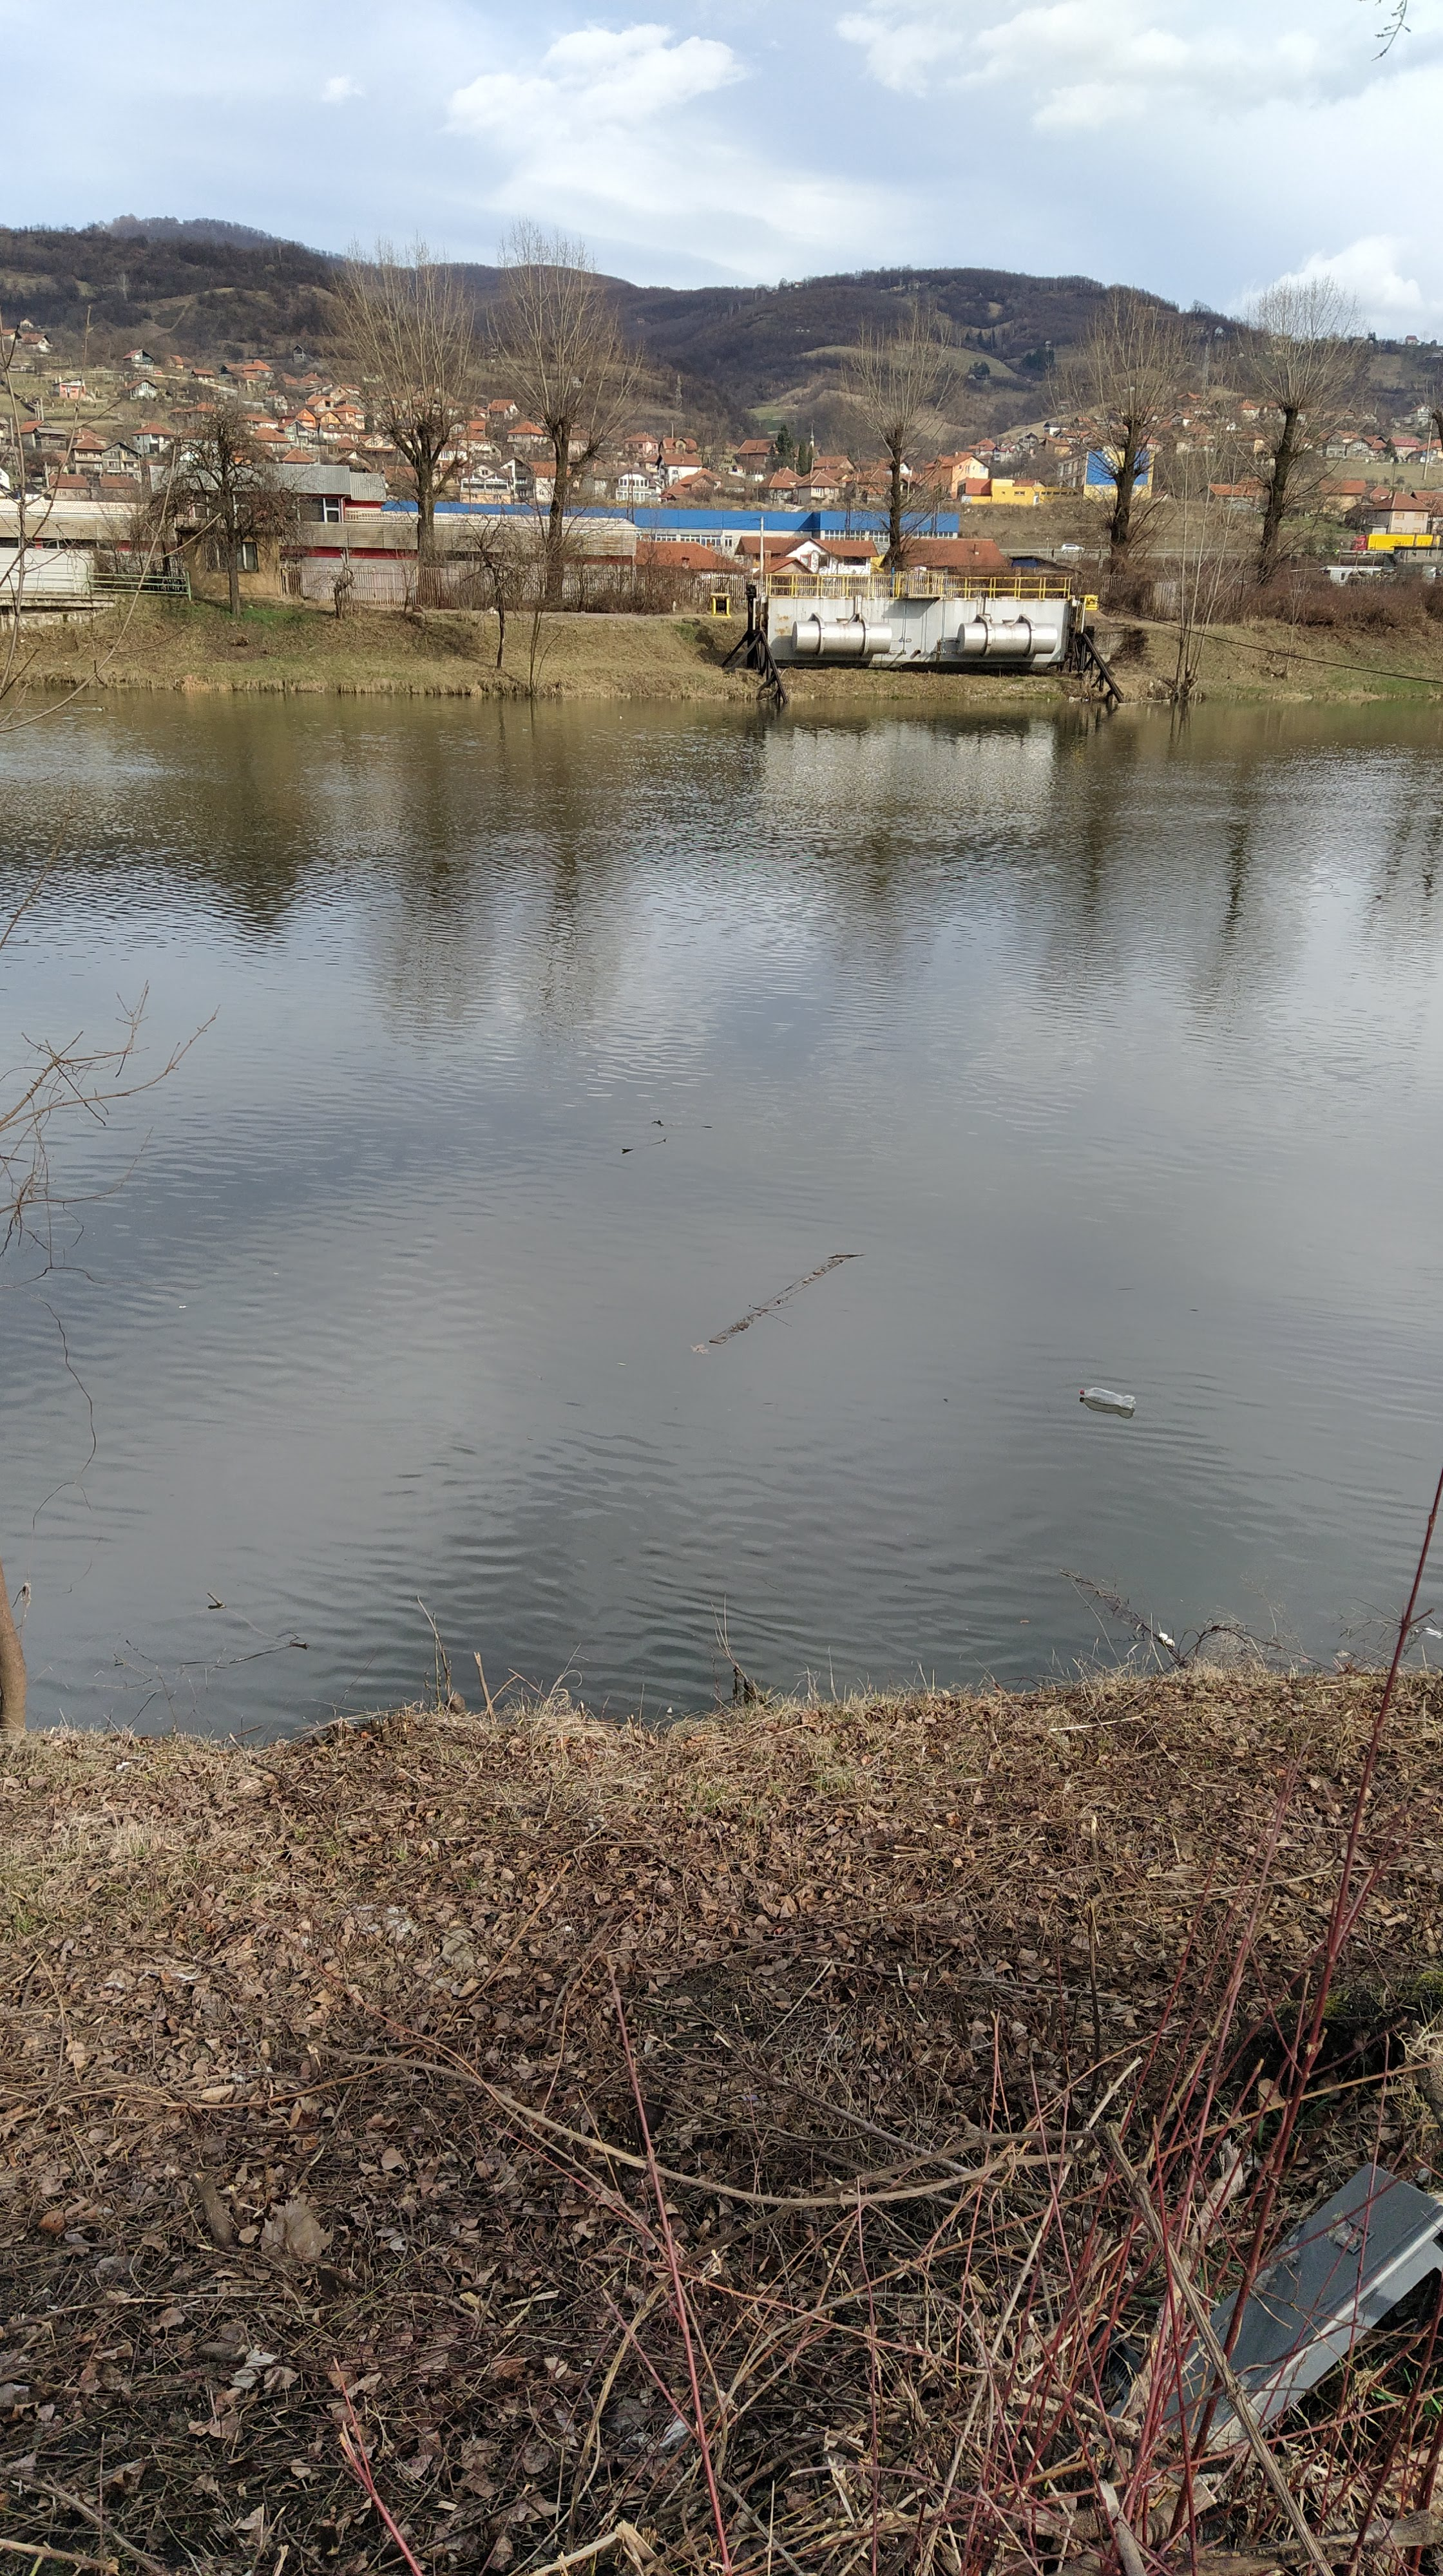Plastic Bottle: (1078, 1387, 1135, 1408)
